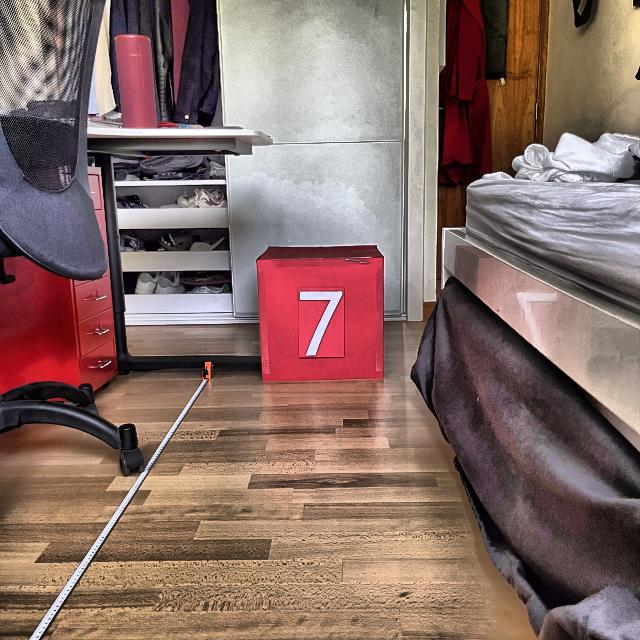red box: (256, 243, 387, 383)
seven: (296, 289, 344, 359)
